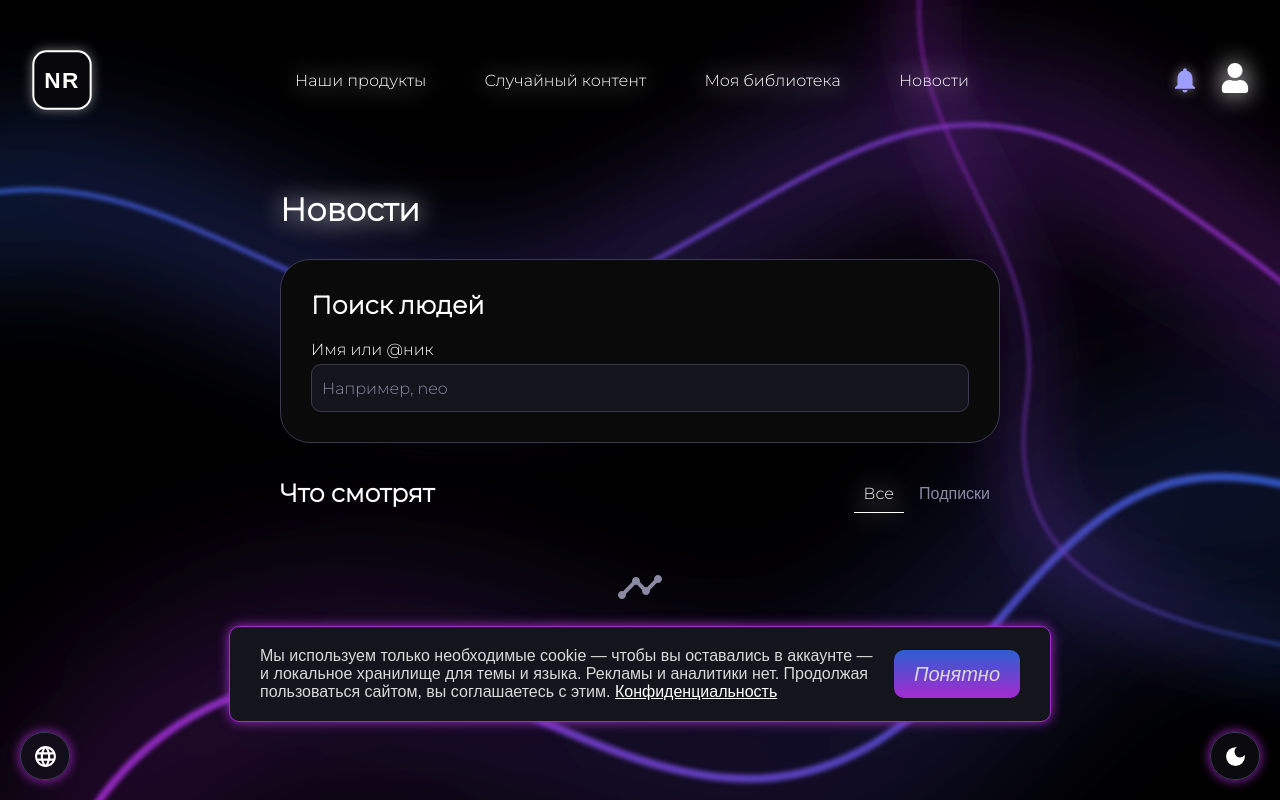
Test: News page › switches to the people the user follows, kept in the URL; /feed opens it
Expected: the heading "Новостей пока нет" is shown, left=544, top=633, right=736, bottom=657
Click the button "Подписки" at point(955, 494), box left=909, top=474, right=1000, bottom=513
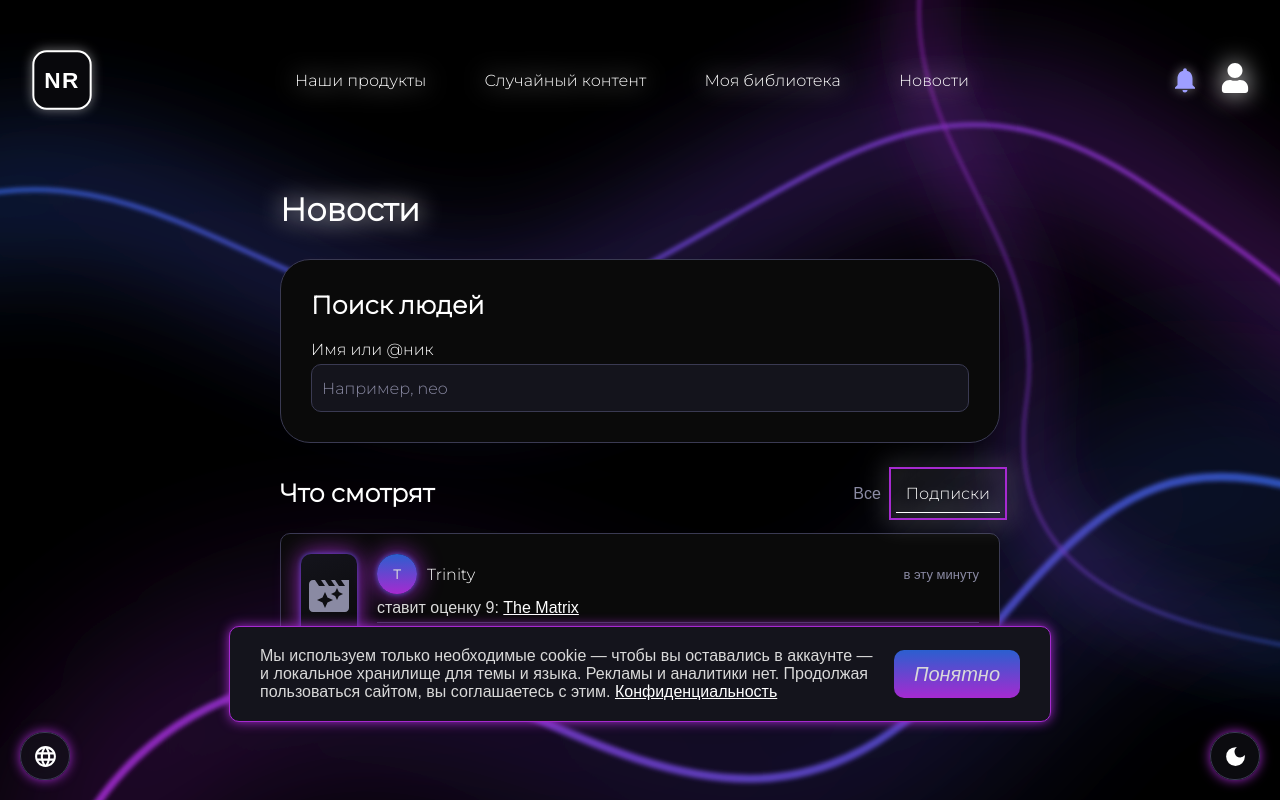
Expected: the link "T Trinity" is shown, left=377, top=554, right=475, bottom=594
